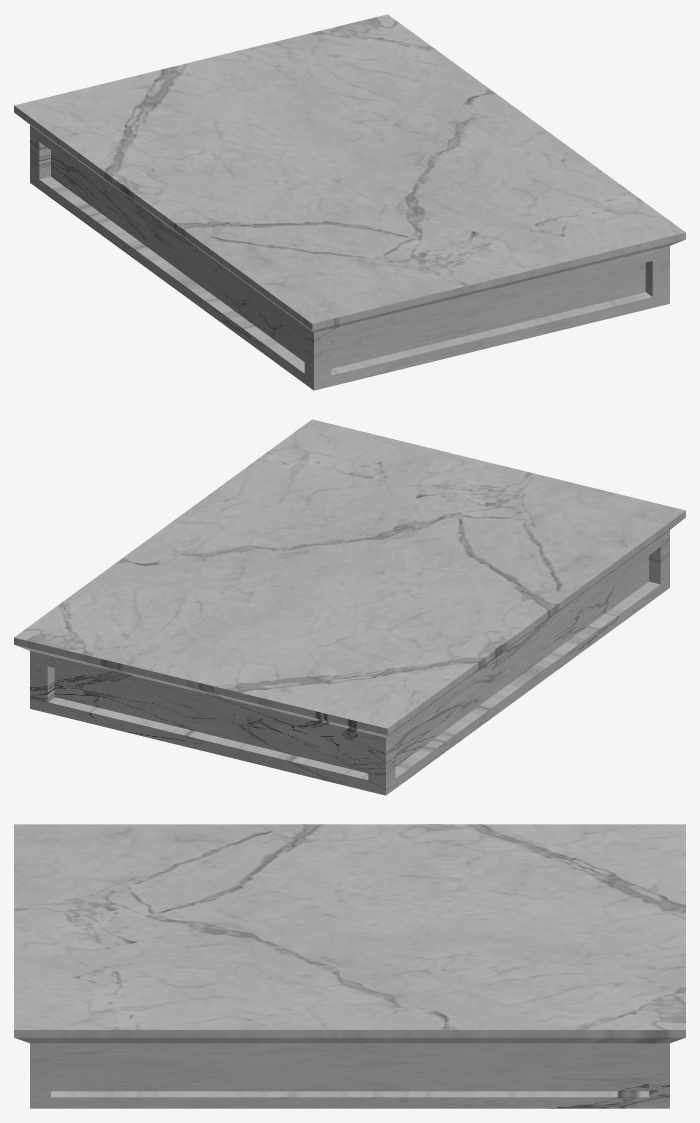
File: Platform_Marble.glb
3 views of the same model, one above another, from view 1: azimuth 30°, elevation 25°; view 2: azimuth 150°, elevation 25°; view 3: azimuth 270°, elevation 25° (orthographic). The views are drawn at different scales.
Parts seen in each view (by area): view 1: platform.002; view 2: platform.002; view 3: platform.002.
Boxes of the visible parts, left/top/right/bottom form: platform.002: left=14, top=14, right=685, bottom=390; platform.002: left=14, top=419, right=685, bottom=795; platform.002: left=14, top=824, right=685, bottom=1108.
Size of the model in its own units: 6.46 by 1.23 by 8.92.
1 material, 1 textured.
